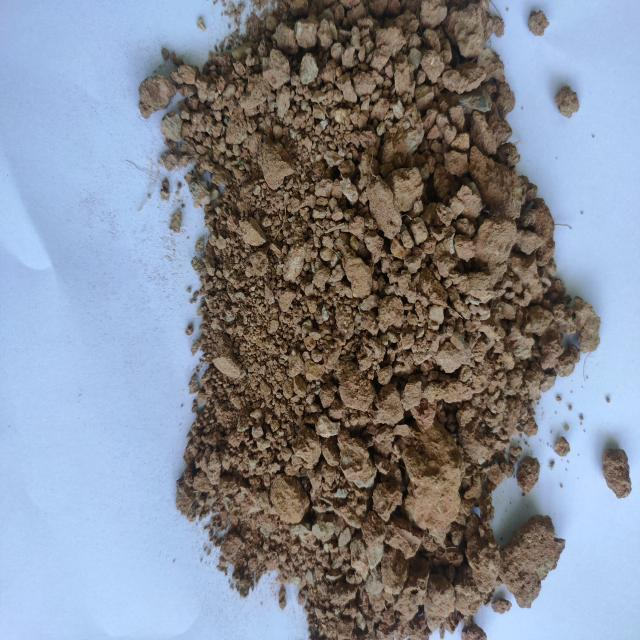soil: (223, 86, 496, 474)
